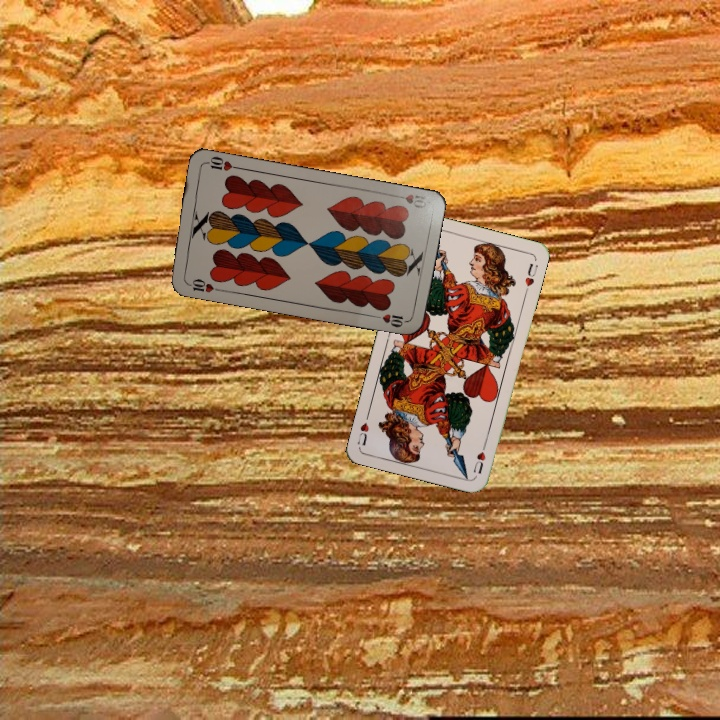H10: (390, 190, 429, 211), (182, 275, 222, 295)
HU: (469, 438, 489, 476)
